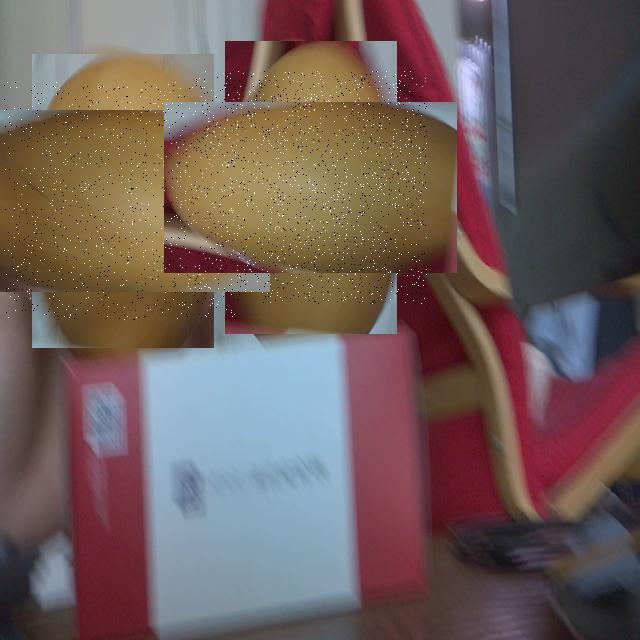pear: (4, 82, 242, 320), (195, 71, 427, 304)
